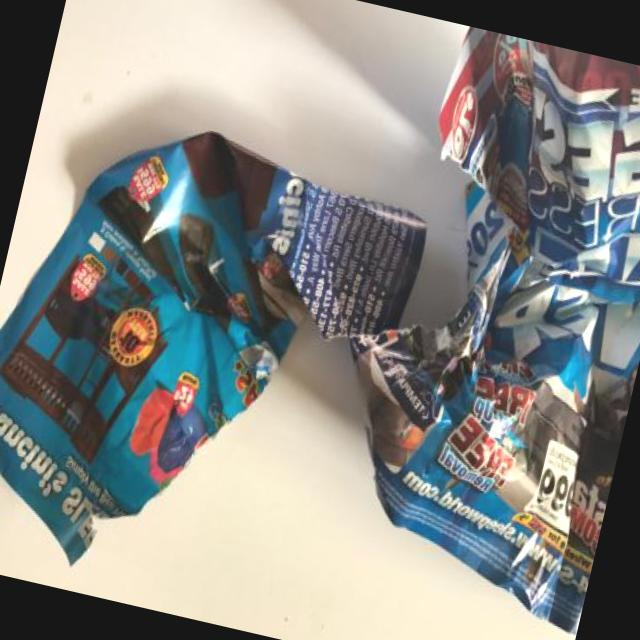paper: (0, 122, 398, 578), (374, 36, 640, 593)
